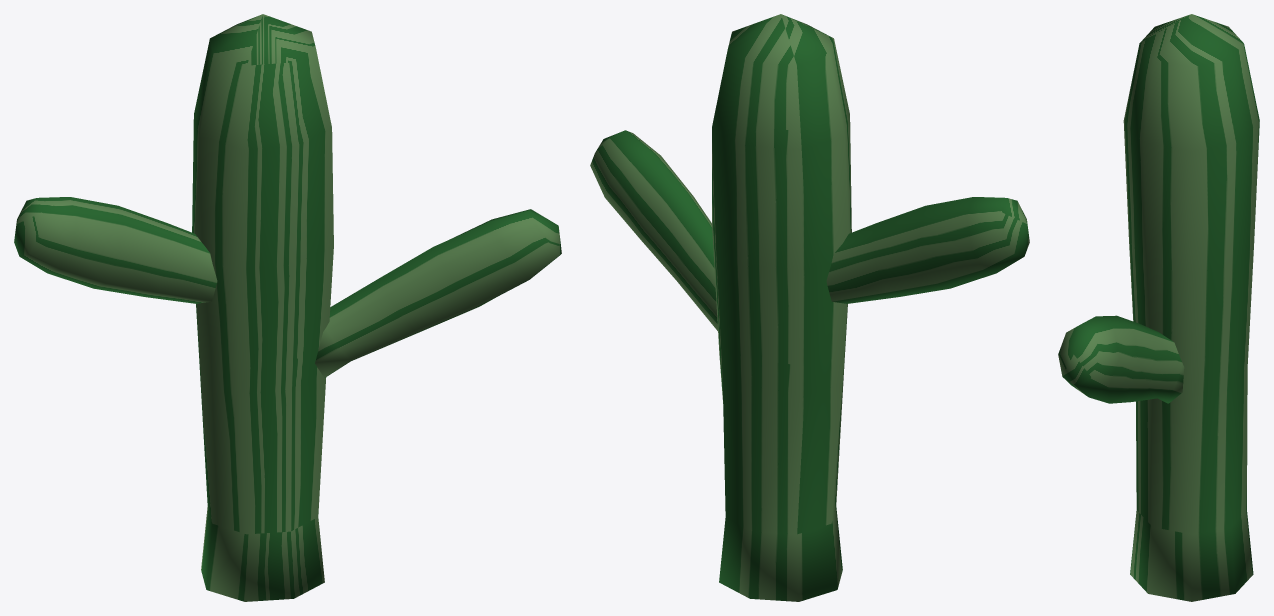
File: Cactus.FBX
3 renders of one model, left to right at view 1: azimuth 30°, elevation 25°; view 2: azimuth 150°, elevation 25°; view 3: azimuth 270°, elevation 25°, orthographic.
Visible parts, largest first — view 1: Cylinder001; view 2: Cylinder001; view 3: Cylinder001.
Part boxes in pixels (x1,y1,x2,y2): Cylinder001: (14,14,561,601); Cylinder001: (590,14,1029,601); Cylinder001: (1058,14,1259,601).
Bounding box in the file's own units: 3.34 × 3.68 × 1.2.
